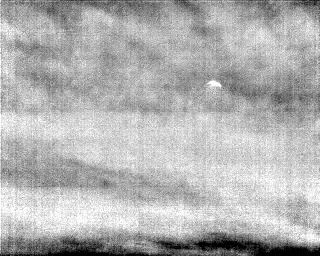BIRD: (205, 77, 224, 92)
